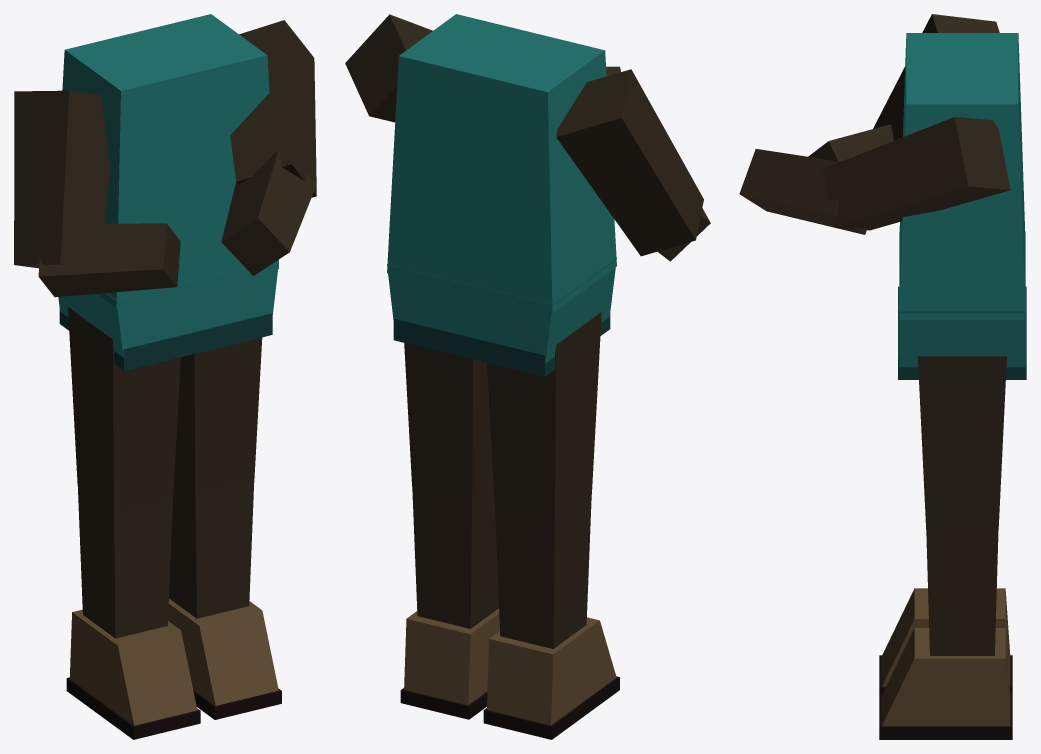
Rendered from gear_body_starter_poncho.glb.
3 views of the same model, side by side, from view 1: azimuth 30°, elevation 25°; view 2: azimuth 150°, elevation 25°; view 3: azimuth 270°, elevation 25° (orthographic). The views are drawn at different scales.
Visible parts, largest first — view 1: torso, leg_r_lower, leg_l_lower, leg_r, arm_r, leg_l, arm_l, arm_r_lower, arm_l_lower; view 2: torso, leg_r_lower, leg_l_lower, leg_r, arm_r, leg_l, arm_l; view 3: torso, leg_l_lower, leg_l, arm_l, arm_l_lower, leg_r_lower, arm_r, arm_r_lower.
Boxes of the visible parts, x1,y1,x2,y2 form: torso: [58, 14, 278, 370]; leg_r_lower: [66, 487, 200, 739]; leg_l_lower: [168, 478, 281, 719]; leg_r: [68, 307, 180, 512]; arm_r: [14, 90, 109, 268]; leg_l: [174, 337, 262, 493]; arm_l: [230, 20, 316, 197]; arm_r_lower: [38, 223, 180, 297]; arm_l_lower: [221, 149, 316, 275]; torso: [387, 14, 616, 376]; leg_r_lower: [483, 495, 619, 739]; leg_l_lower: [400, 486, 499, 719]; leg_r: [487, 312, 601, 521]; arm_r: [556, 69, 703, 256]; leg_l: [404, 343, 493, 501]; arm_l: [345, 14, 432, 122]; torso: [898, 33, 1026, 379]; leg_l_lower: [879, 530, 1012, 739]; leg_l: [917, 356, 1006, 530]; arm_l: [823, 117, 1010, 230]; arm_l_lower: [739, 149, 866, 234]; leg_r_lower: [879, 588, 1012, 694]; arm_r: [873, 14, 999, 140]; arm_r_lower: [808, 124, 893, 161].
Bounding box in the file's own units: 0.7929 × 1.52 × 0.6149.
